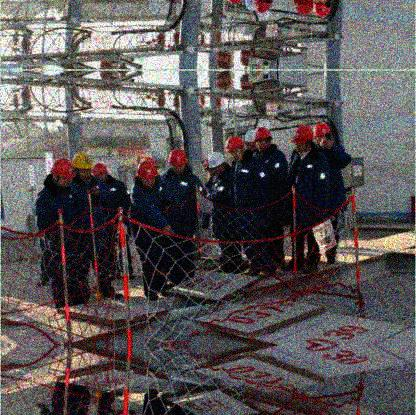helmet: (136, 160, 160, 192), (49, 159, 75, 188), (292, 124, 316, 155), (71, 151, 94, 182), (166, 147, 190, 176), (225, 136, 246, 164), (313, 121, 332, 148), (255, 126, 273, 152), (209, 152, 227, 177), (245, 129, 259, 151), (93, 161, 108, 181), (314, 1, 332, 17)
